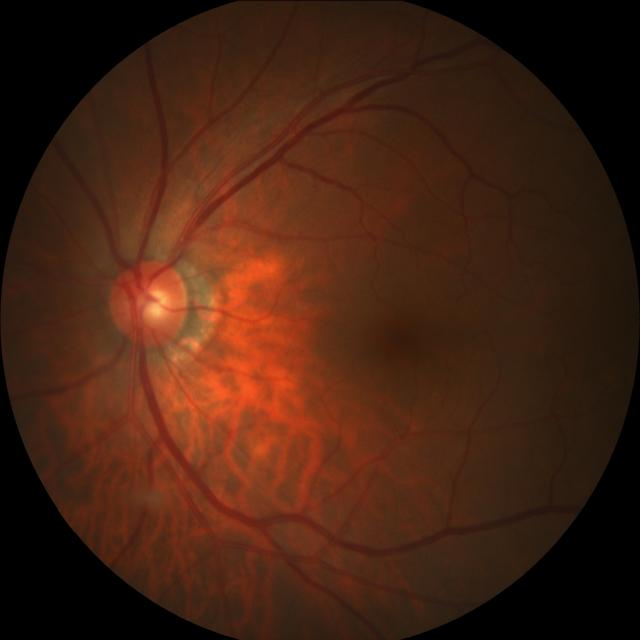OC: (132, 283, 174, 324)
OD: (110, 257, 190, 346)
